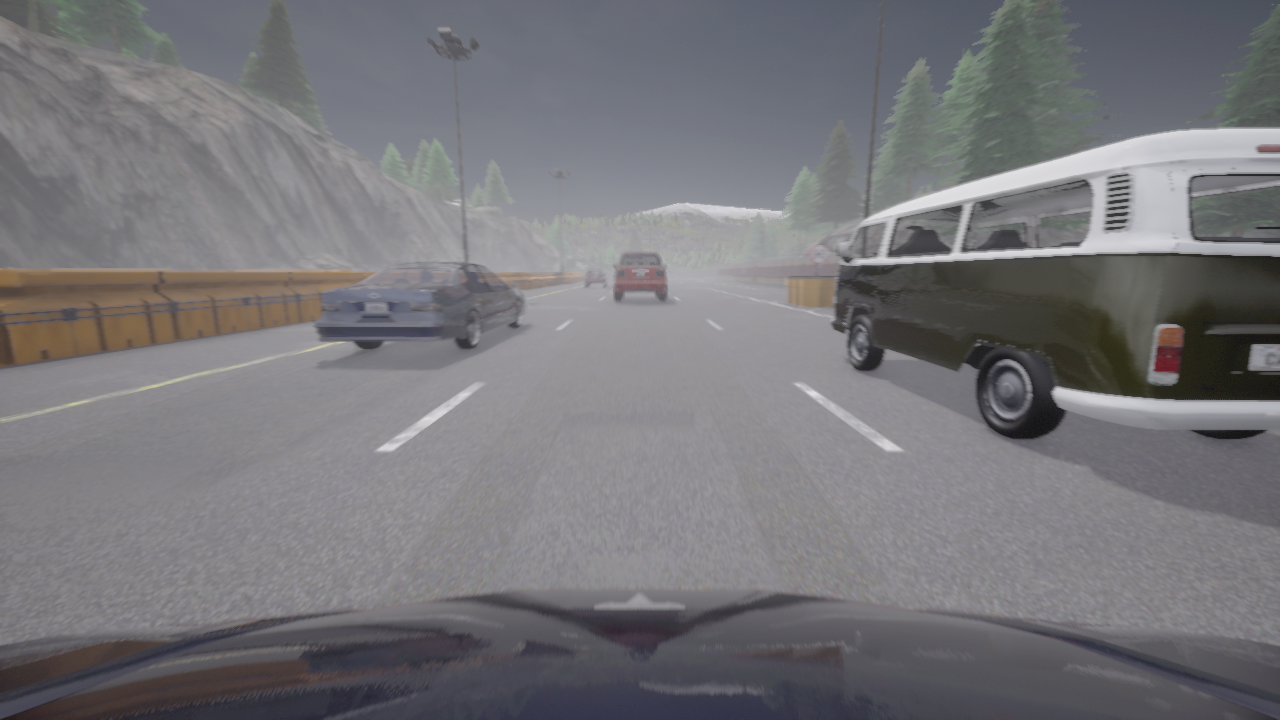cyclist: (0, 588, 1279, 719), (831, 128, 1279, 440), (314, 261, 528, 350), (614, 252, 666, 301), (584, 268, 607, 288)
